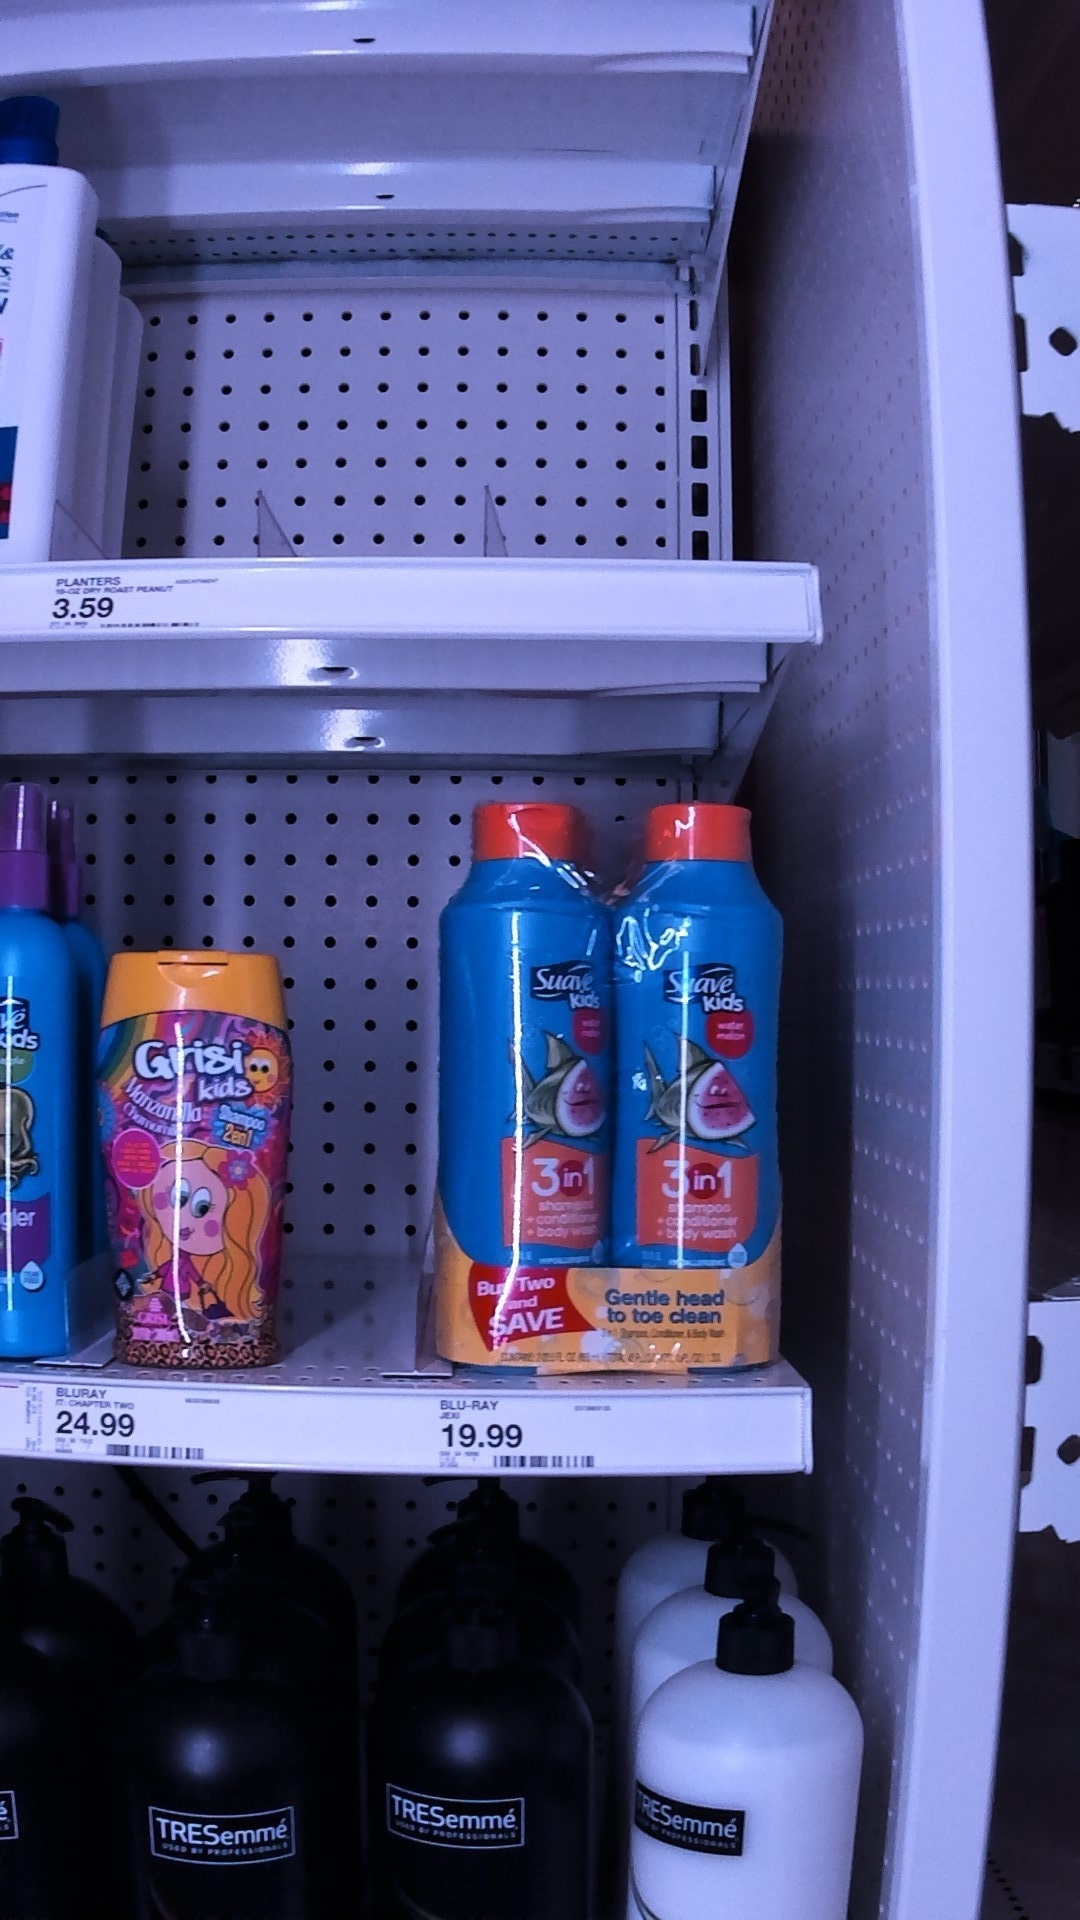ptag: (20, 1385, 224, 1473), (422, 1395, 607, 1480), (46, 562, 222, 637)
